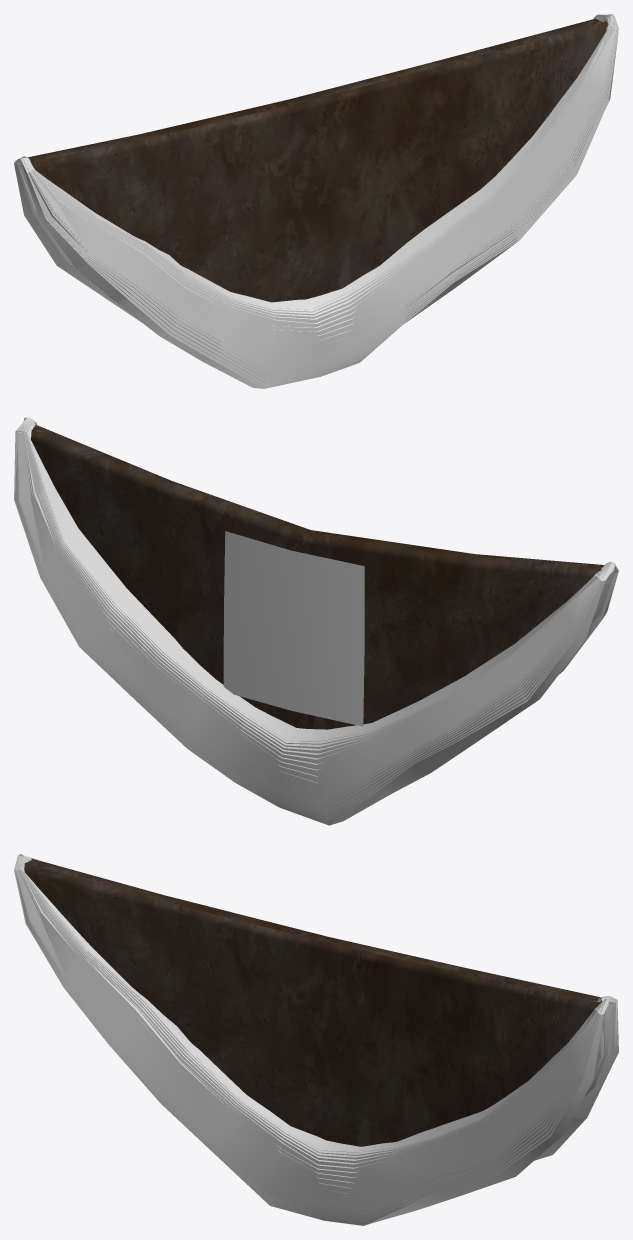
3 views of the same model, one above another, from view 1: azimuth 30°, elevation 25°; view 2: azimuth 150°, elevation 25°; view 3: azimuth 330°, elevation 25° (orthographic).
Parts seen in each view (by area): view 1: SM_Dec_Garou_Set_SM_Hanging_Pelt_LOD0; view 2: SM_Dec_Garou_Set_SM_Hanging_Pelt_LOD0; view 3: SM_Dec_Garou_Set_SM_Hanging_Pelt_LOD0.
Part boxes in pixels (x1,y1,x2,y2): SM_Dec_Garou_Set_SM_Hanging_Pelt_LOD0: (14,14,618,388); SM_Dec_Garou_Set_SM_Hanging_Pelt_LOD0: (14,417,618,825); SM_Dec_Garou_Set_SM_Hanging_Pelt_LOD0: (14,854,618,1225).
Bounding box in the file's own units: 2.42 × 1.18 × 0.3443.
Materials: 4 (2 with a texture image).
